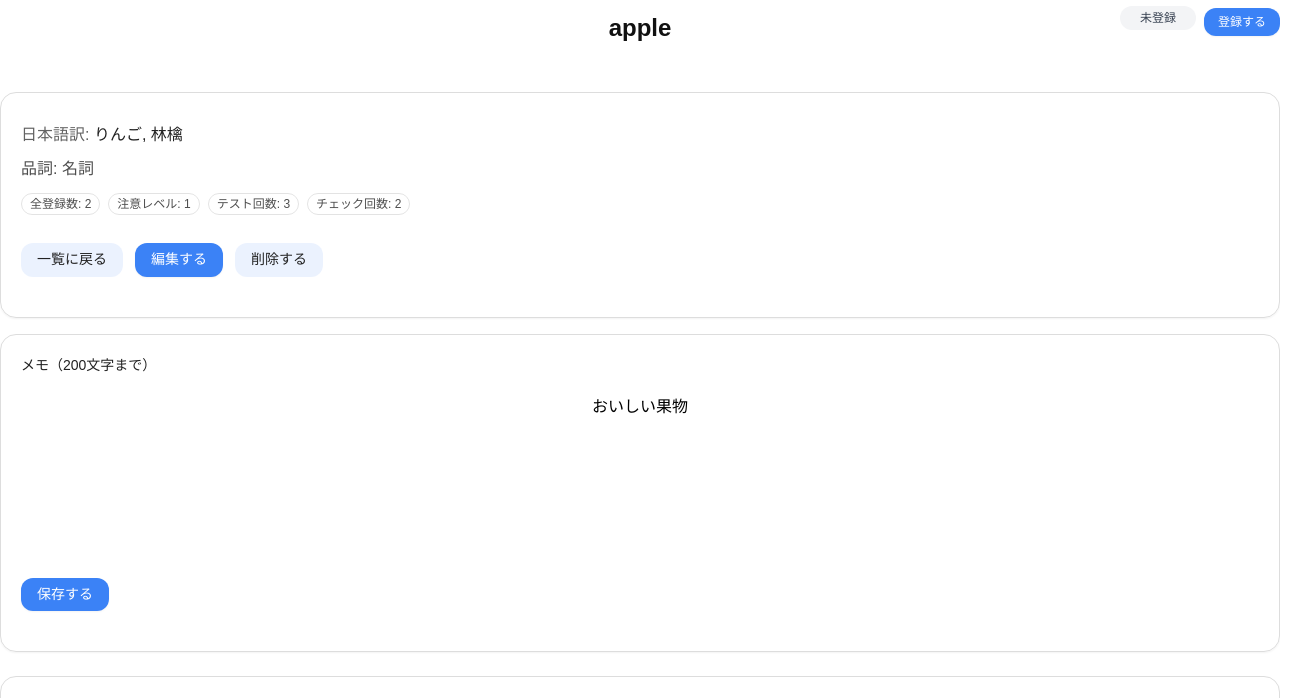
it: WordShow › (9) 削除：成功 → メッセージ表示
The width and height of the screenshot is (1292, 698).
Check: the heading "apple" is shown, box [609, 12, 671, 44]
Click the button "削除する" at (279, 260), box [235, 243, 323, 276]
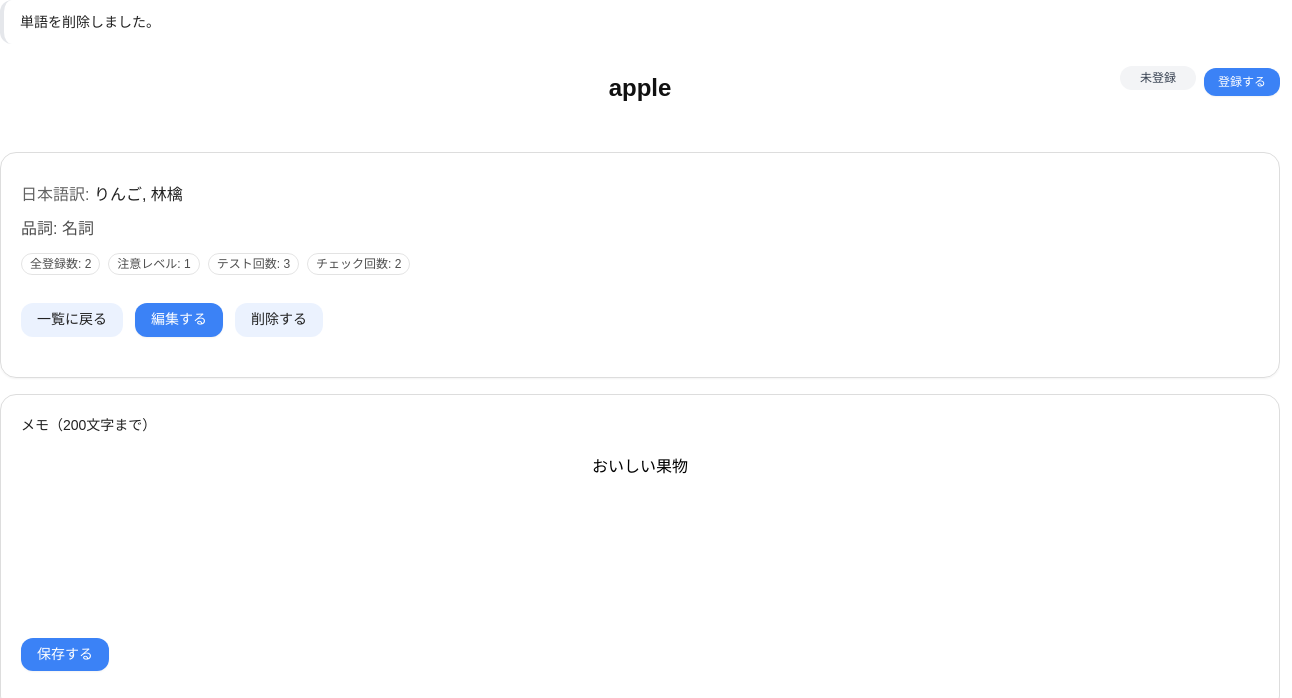
Check: the text "単語を削除しました。" is shown, box [0, 0, 1280, 44]
